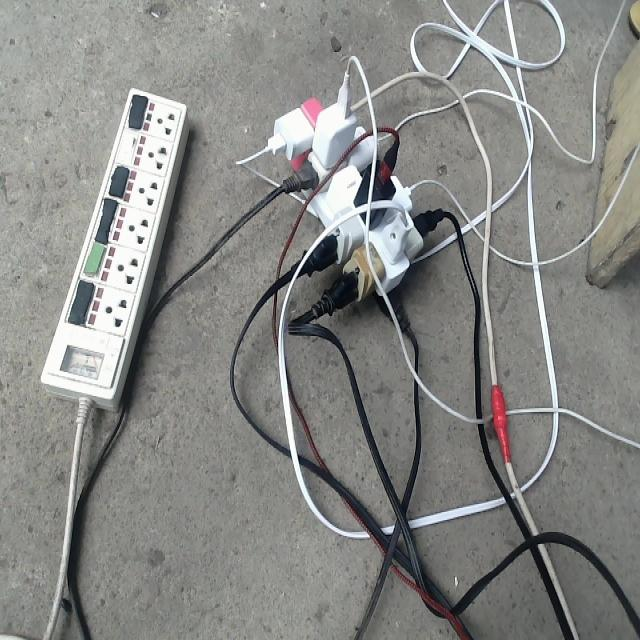-: (250, 91, 427, 309)
